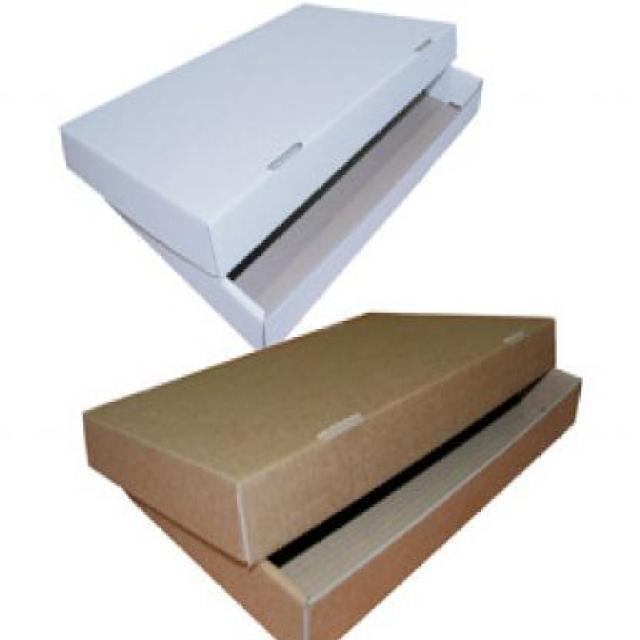box: (80, 295, 612, 640), (52, 0, 520, 345)
